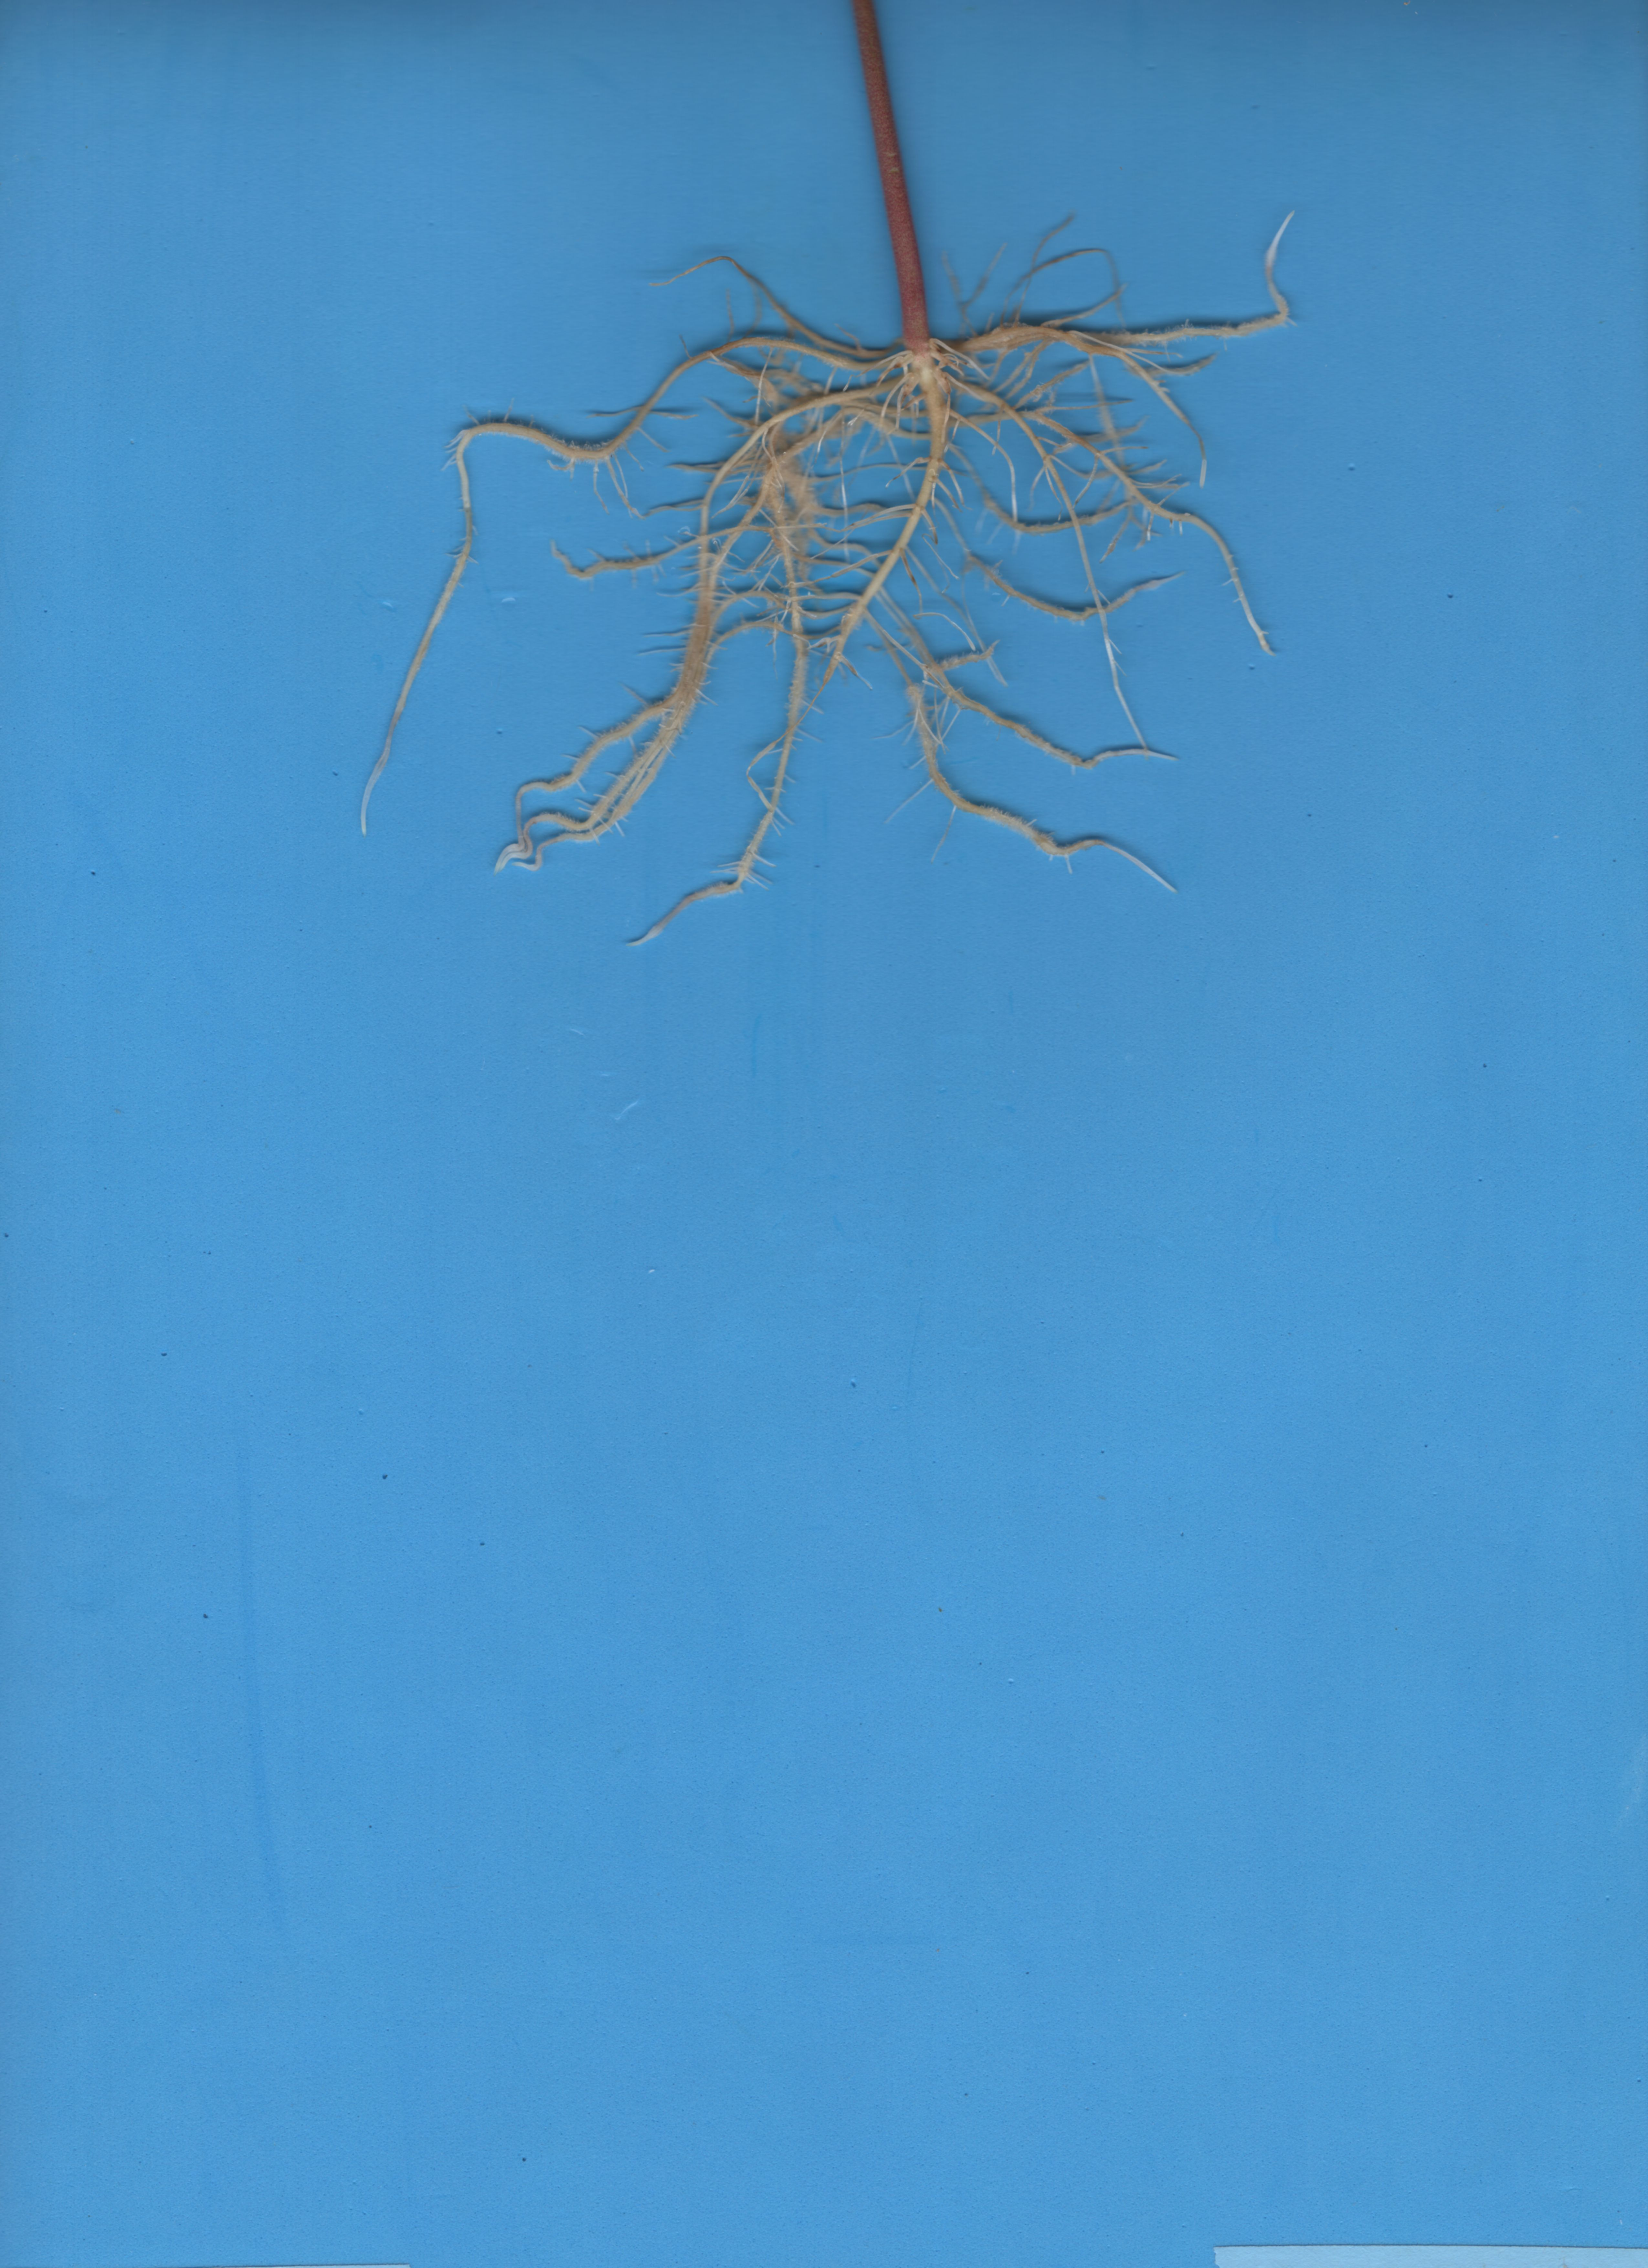CROWNDISEASE: (803, 0, 977, 352)
ROOTGOOD: (292, 282, 1539, 924)
